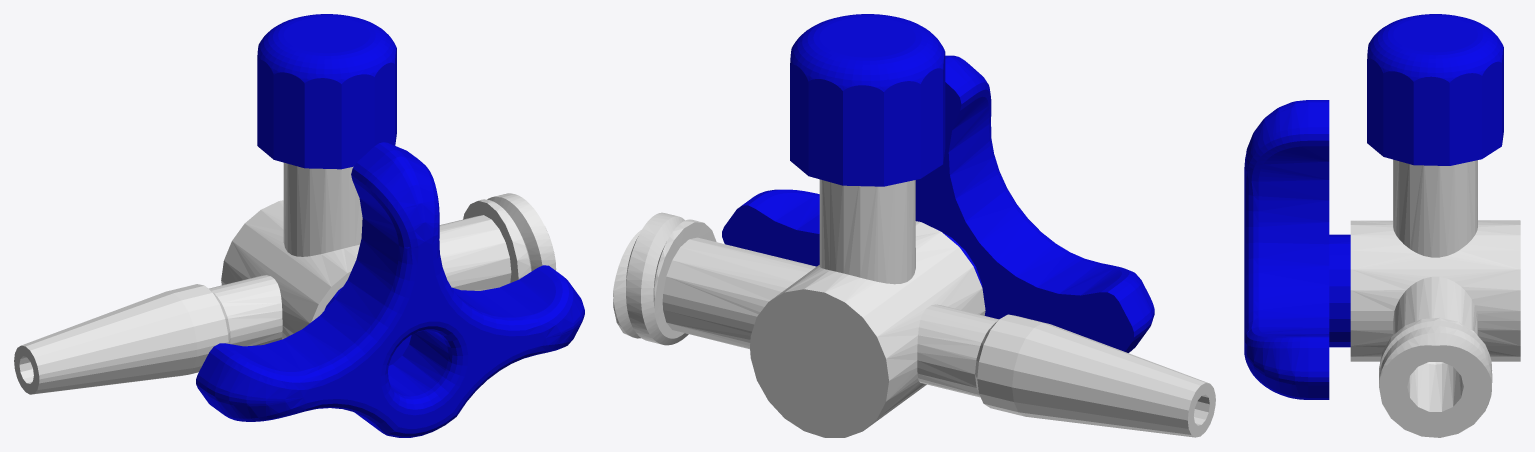
File: ThreeWayStopcock.fbx
3 views of the same model, side by side, from view 1: azimuth 30°, elevation 25°; view 2: azimuth 150°, elevation 25°; view 3: azimuth 270°, elevation 25° (orthographic). The views are drawn at different scales.
Parts seen in each view (by area): view 1: ThreeWaySc___head_1, ThreeWaySc___base_1, ThreeWaySc___cap_1; view 2: ThreeWaySc___base_1, ThreeWaySc___head_1, ThreeWaySc___cap_1; view 3: ThreeWaySc___base_1, ThreeWaySc___head_1, ThreeWaySc___cap_1.
Part boxes in pixels (left/top/right/bottom): ThreeWaySc___head_1: left=196, top=142, right=584, bottom=437; ThreeWaySc___base_1: left=14, top=162, right=556, bottom=394; ThreeWaySc___cap_1: left=257, top=14, right=396, bottom=169; ThreeWaySc___base_1: left=613, top=179, right=1215, bottom=437; ThreeWaySc___head_1: left=722, top=55, right=1154, bottom=352; ThreeWaySc___cap_1: left=790, top=14, right=945, bottom=186; ThreeWaySc___base_1: left=1350, top=159, right=1520, bottom=437; ThreeWaySc___head_1: left=1244, top=100, right=1350, bottom=399; ThreeWaySc___cap_1: left=1367, top=14, right=1503, bottom=165.
Bounding box in the file's own units: 0.04 × 0.0255 × 0.0195.
